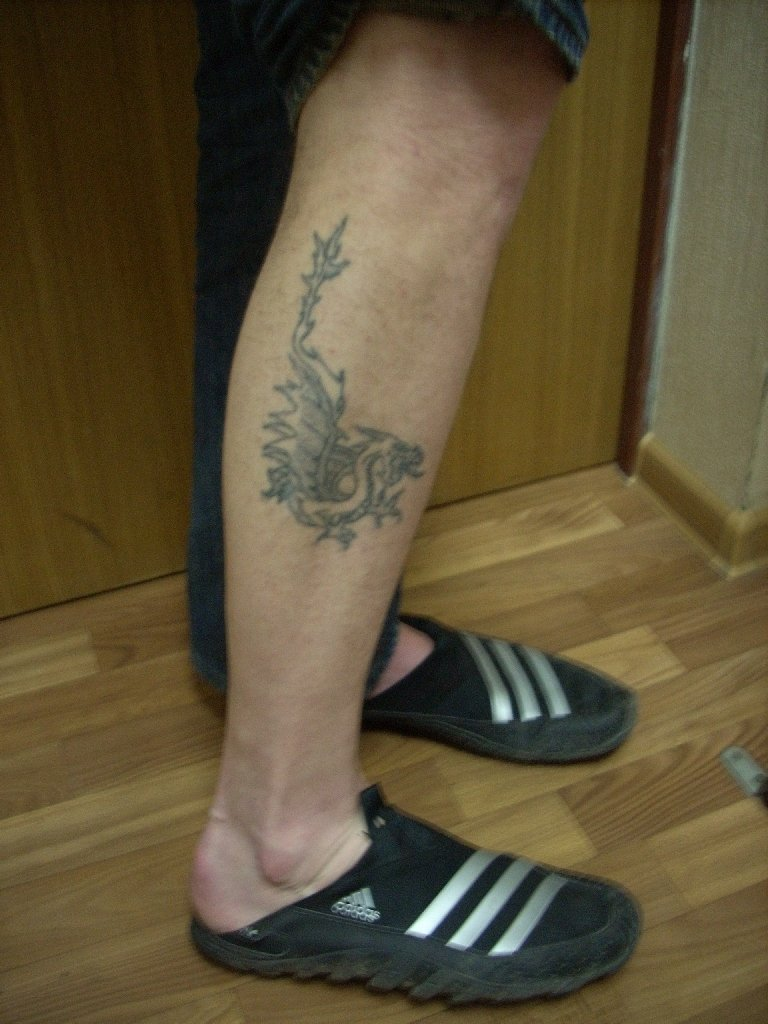tatu6_drakon: (266, 217, 417, 574)
